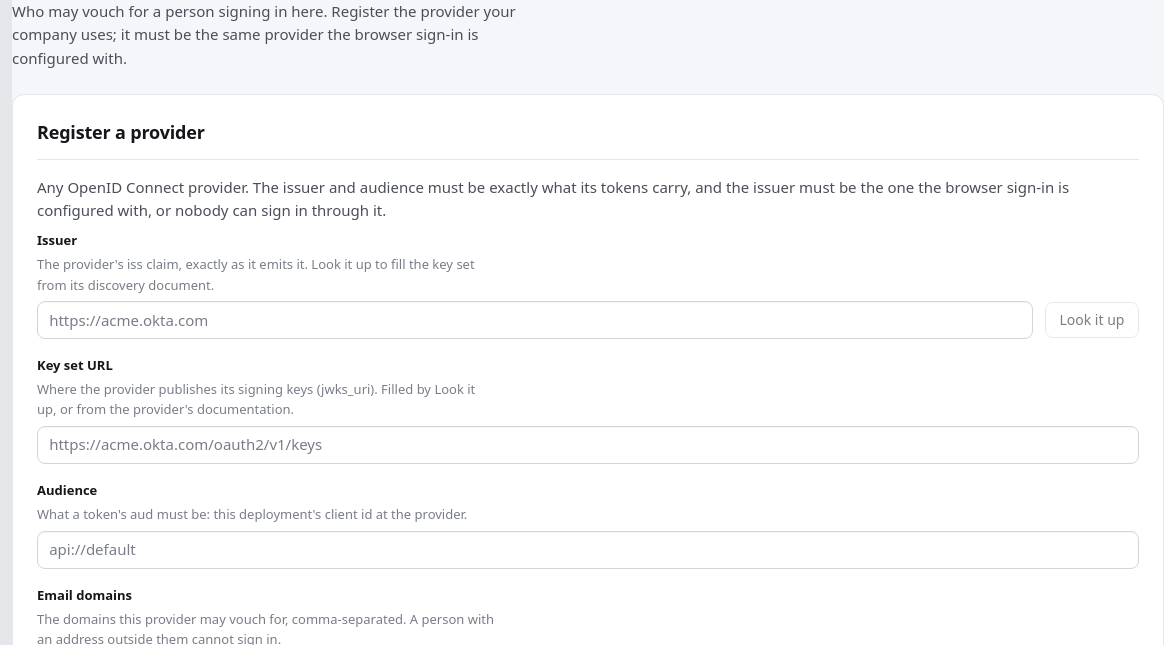
Test: registering › sends the nine flags as a body, with the domains split and the blanks as null
In the field with placeholder "https://acme.okta.com": coordinates (535, 320) left=37, top=301, right=1033, bottom=339, type "https://login.example.com/t1/v2.0"
In the field with placeholder "https://acme.okta.com/oauth2/v1/keys": coordinates (588, 445) left=37, top=426, right=1139, bottom=464, type "https://login.example.com/t1/discovery/v2.0/keys"
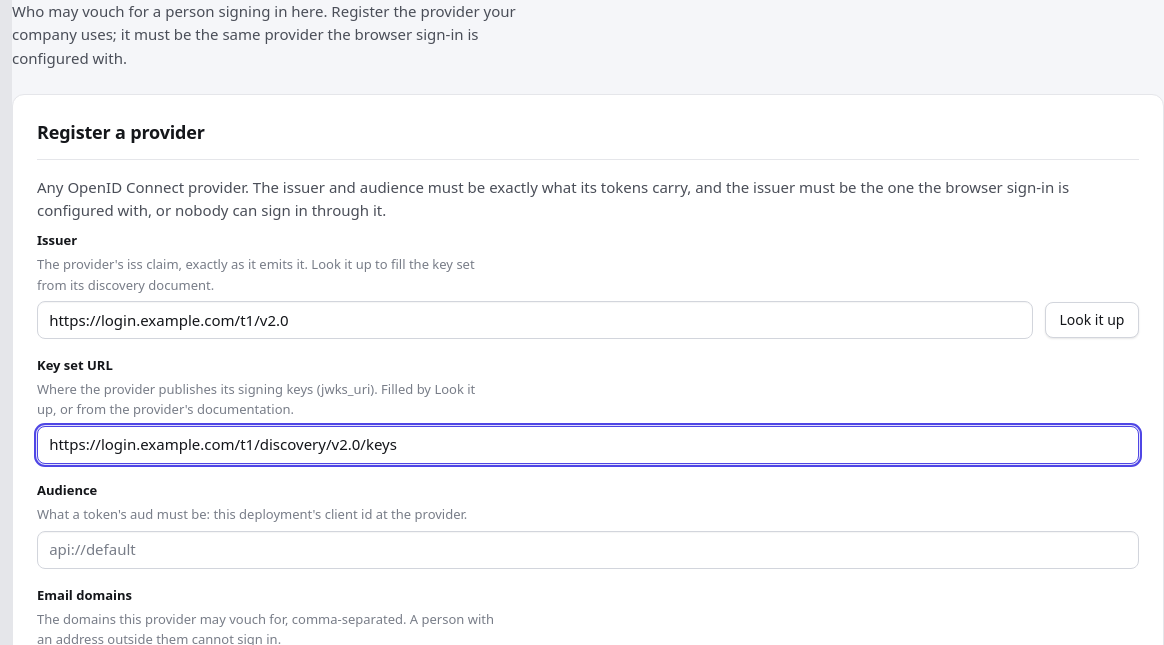
In the field with placeholder "api://default": coordinates (588, 550) left=37, top=531, right=1139, bottom=569, type "api://carnet"
(page scrolled)
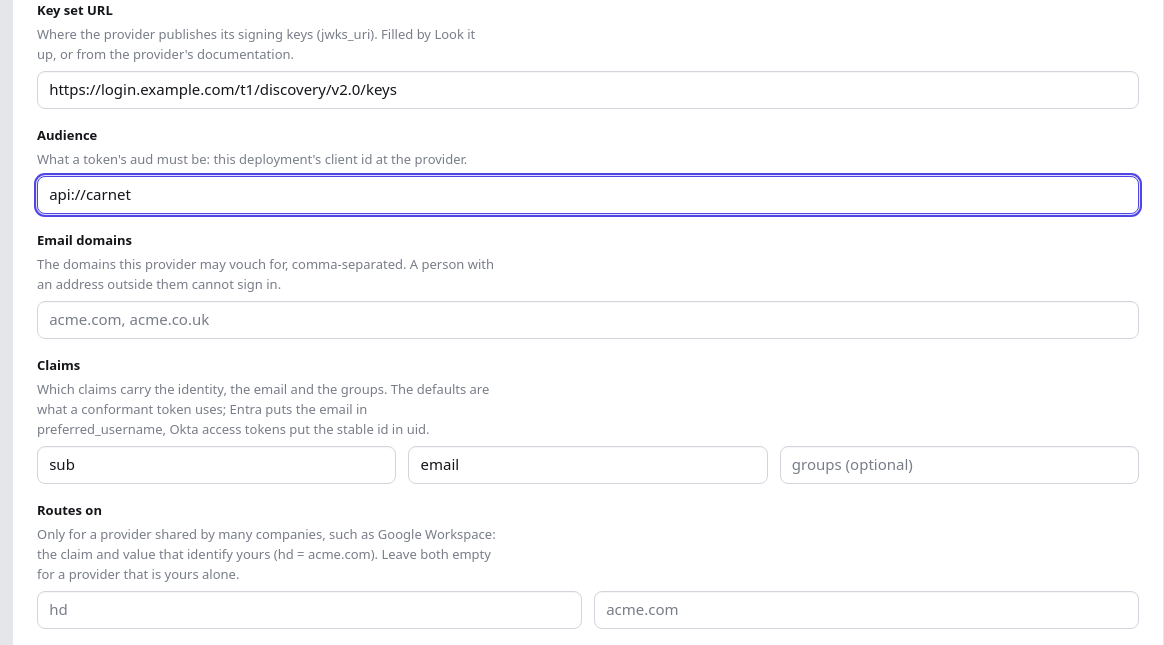
In the field with placeholder "acme.com, acme.co.uk": coordinates (588, 320) left=37, top=300, right=1139, bottom=338, type "acme.com, , acme.co.uk "
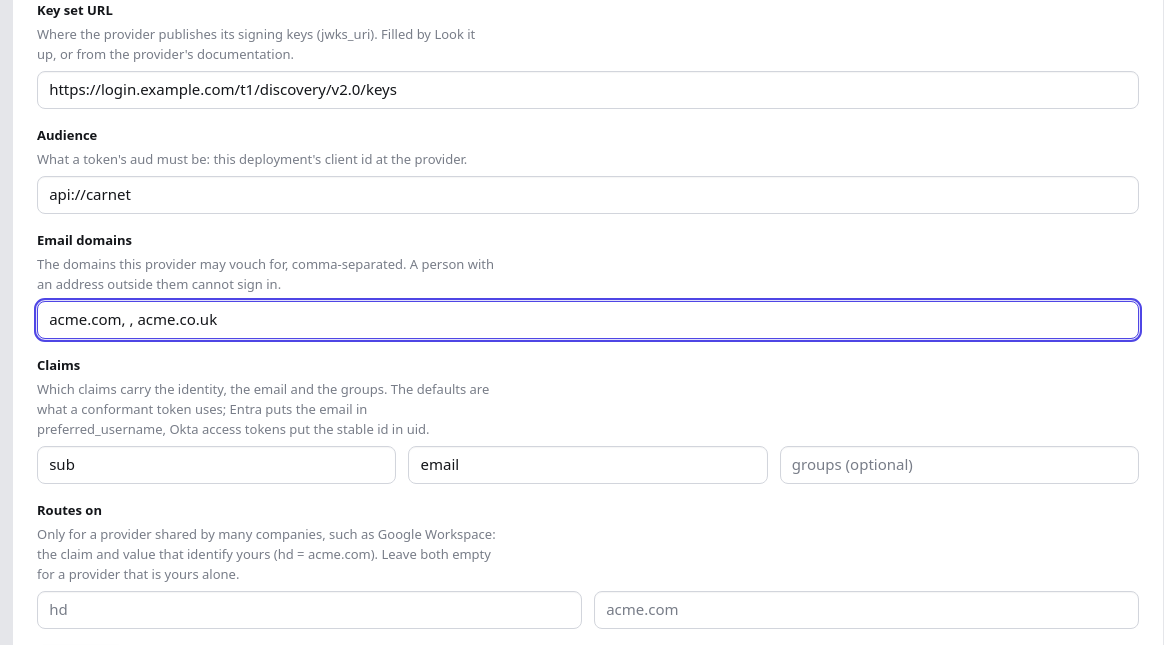
In the field named "Email claim": coordinates (588, 464) left=408, top=446, right=768, bottom=484, type "preferred_username"
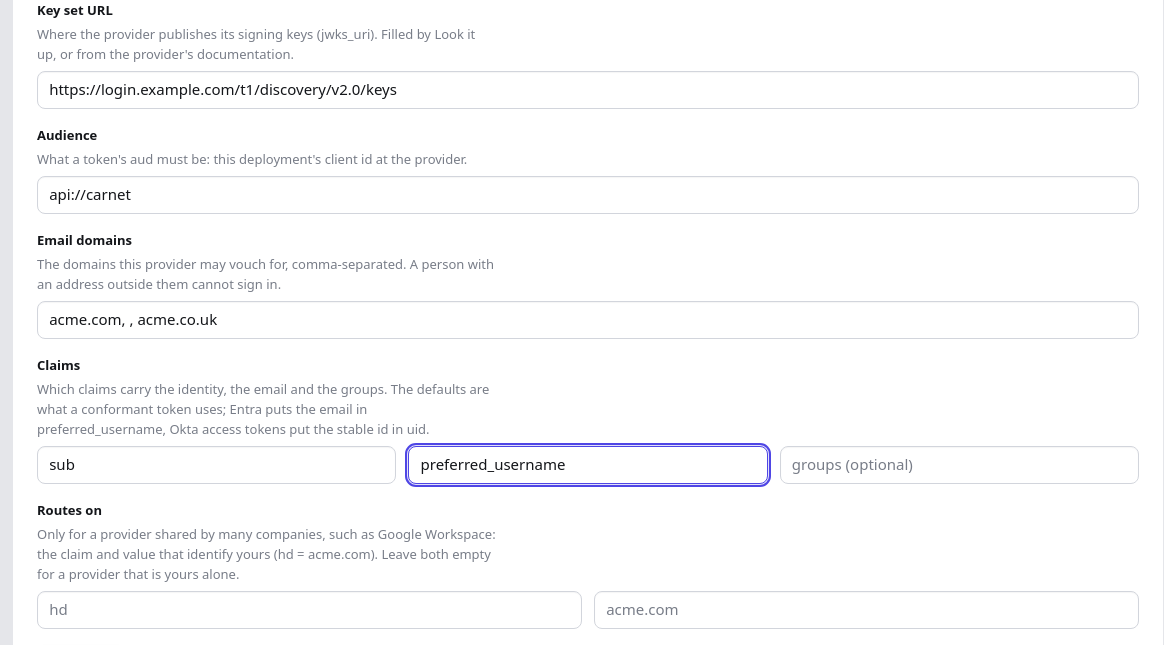
In the field named "Groups claim": coordinates (959, 464) left=780, top=446, right=1139, bottom=484, type "groups"
(page scrolled)
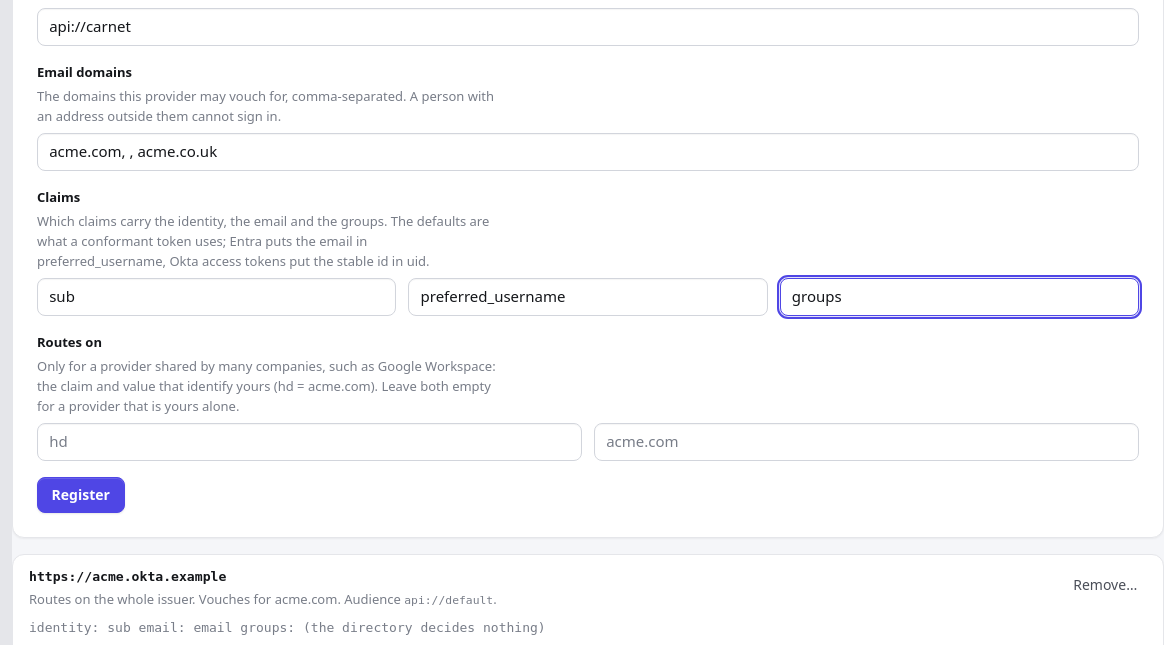
Click the button "Register": coordinates (81, 494) left=37, top=476, right=124, bottom=512
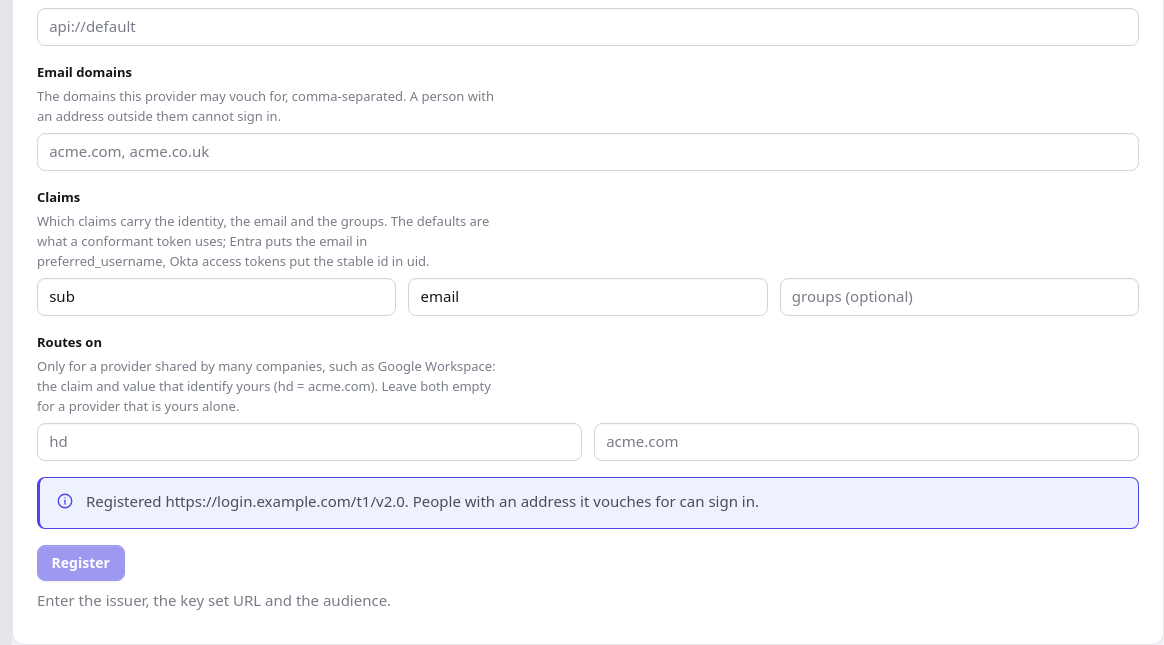
Result: the text "Registered https://login.example.com/t1/v2.0" is shown at left=86, top=490, right=759, bottom=510
